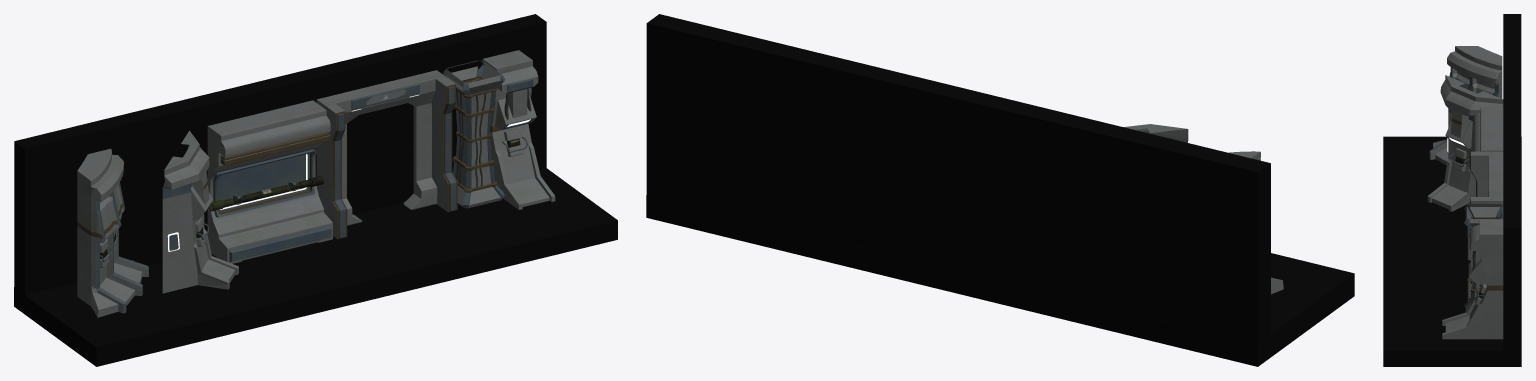
The picture shows the model from 3 angles, left to right: view 1: azimuth 30°, elevation 25°; view 2: azimuth 150°, elevation 25°; view 3: azimuth 270°, elevation 25°; orthographic projection. The views are drawn at different scales.
Visible parts, largest first — view 1: pCube3, Wall, Door_wall, Corner_outer, Corner_inner, Wall_divider, Pillar; view 2: pCube3, Corner_inner; view 3: pCube3, Wall_divider, Corner_inner, Corner_outer, Door_wall, Wall, Pillar.
Boxes of the visible parts, x1=… form: pCube3: x1=14, y1=14, x2=617, y2=366; Wall: x1=207, y1=100, x2=332, y2=263; Door_wall: x1=316, y1=70, x2=457, y2=239; Corner_outer: x1=77, y1=148, x2=148, y2=317; Corner_inner: x1=162, y1=130, x2=238, y2=293; Wall_divider: x1=482, y1=50, x2=555, y2=209; Pillar: x1=442, y1=60, x2=505, y2=208; pCube3: x1=646, y1=14, x2=1354, y2=366; Corner_inner: x1=1123, y1=124, x2=1188, y2=142; pCube3: x1=1383, y1=14, x2=1521, y2=366; Wall_divider: x1=1442, y1=219, x2=1503, y2=339; Corner_inner: x1=1427, y1=75, x2=1503, y2=211; Corner_outer: x1=1429, y1=46, x2=1502, y2=165; Door_wall: x1=1467, y1=151, x2=1503, y2=301; Wall: x1=1467, y1=107, x2=1503, y2=232; Pillar: x1=1464, y1=204, x2=1503, y2=312.
Bounding box in the file's own units: 13.02 × 3.95 × 3.56.
2 materials, 2 textured.
